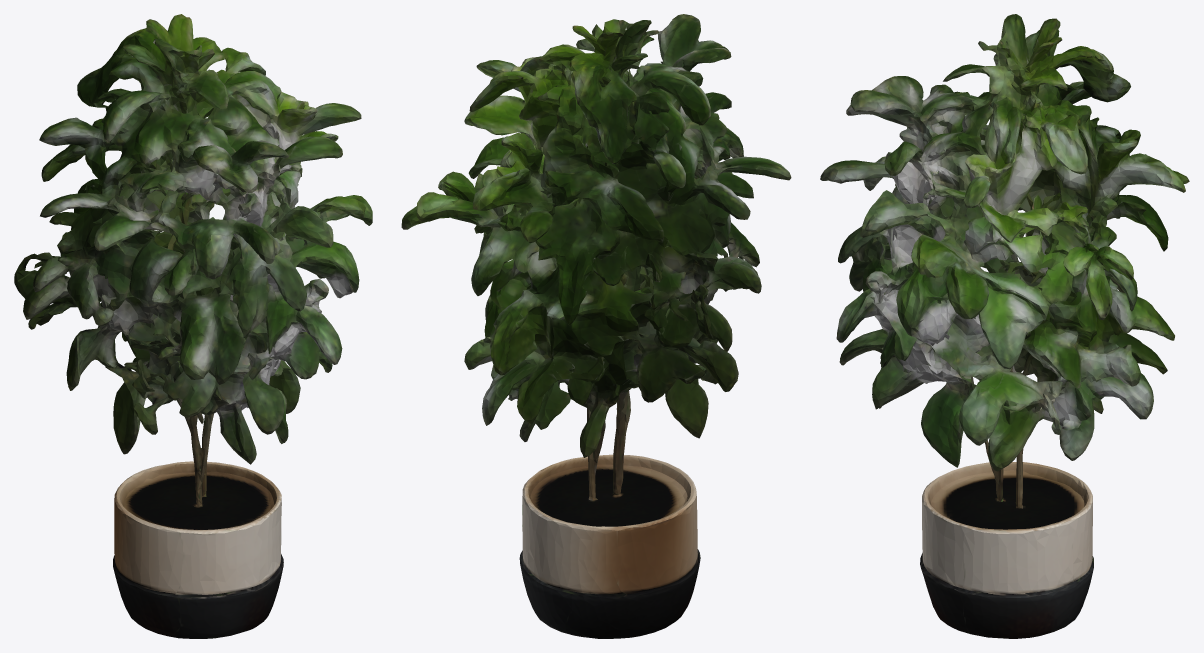
The model's file is Potted_Plant.glb.
The picture shows the model from 3 angles, left to right: view 1: azimuth 30°, elevation 25°; view 2: azimuth 150°, elevation 25°; view 3: azimuth 270°, elevation 25°; orthographic projection. The views are drawn at different scales.
Parts seen in each view (by area): view 1: world; view 2: world; view 3: world.
Part boxes in pixels (box(x1,y1,x2,y2)): world: box(14, 14, 372, 638); world: box(401, 14, 791, 638); world: box(820, 14, 1189, 638).
Bounding box in the file's own units: 0.5552 × 0.9983 × 0.58.
Materials: 1 (1 with a texture image).
